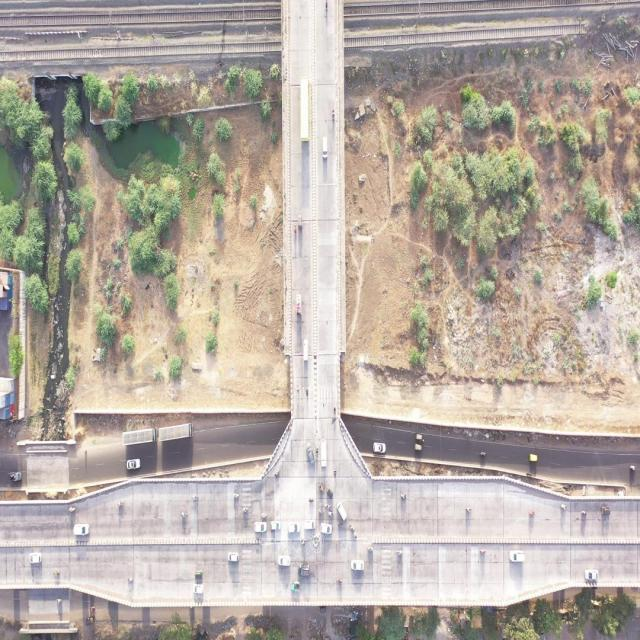3W: (85, 615, 95, 628), (602, 505, 612, 518), (325, 485, 334, 499), (317, 605, 327, 615), (414, 431, 424, 441), (414, 442, 423, 453), (194, 569, 203, 579), (298, 212, 303, 230)
Bus: (299, 76, 311, 142)
Cars: (508, 547, 525, 566), (350, 556, 365, 573), (336, 501, 348, 521), (124, 457, 141, 471), (74, 524, 90, 538), (320, 438, 327, 470), (277, 552, 291, 567), (372, 440, 387, 454), (297, 564, 311, 578), (584, 568, 598, 582), (254, 521, 267, 534), (227, 550, 239, 564), (288, 522, 300, 536), (320, 522, 332, 536), (322, 135, 328, 162), (29, 552, 42, 564), (192, 582, 204, 595), (303, 518, 316, 530), (303, 338, 309, 362), (271, 520, 281, 532)
LCV: (295, 292, 303, 320), (8, 469, 22, 484), (289, 580, 301, 596)
M2W: (305, 441, 315, 467), (399, 490, 409, 502), (190, 492, 200, 502), (528, 453, 537, 463), (180, 510, 189, 519), (335, 578, 344, 587), (528, 509, 536, 519), (580, 509, 588, 519), (479, 450, 488, 458), (560, 502, 568, 511), (127, 575, 134, 585), (232, 491, 239, 501), (242, 505, 249, 515), (479, 546, 486, 556), (629, 464, 636, 474), (331, 107, 335, 124), (274, 468, 280, 479), (333, 464, 337, 480), (395, 549, 403, 557), (117, 499, 124, 508), (68, 506, 76, 513), (367, 546, 374, 554), (318, 482, 323, 493), (307, 498, 316, 504), (315, 447, 319, 460), (333, 403, 337, 416), (293, 222, 297, 235), (337, 523, 344, 530), (53, 570, 61, 576), (56, 597, 62, 605), (348, 522, 354, 530), (466, 506, 472, 514), (88, 606, 95, 612), (260, 512, 267, 518), (306, 386, 309, 400), (353, 531, 357, 540), (318, 509, 324, 515), (324, 502, 330, 508), (328, 511, 333, 517), (297, 382, 299, 393)
MAV: (122, 427, 157, 445), (159, 422, 194, 440)
